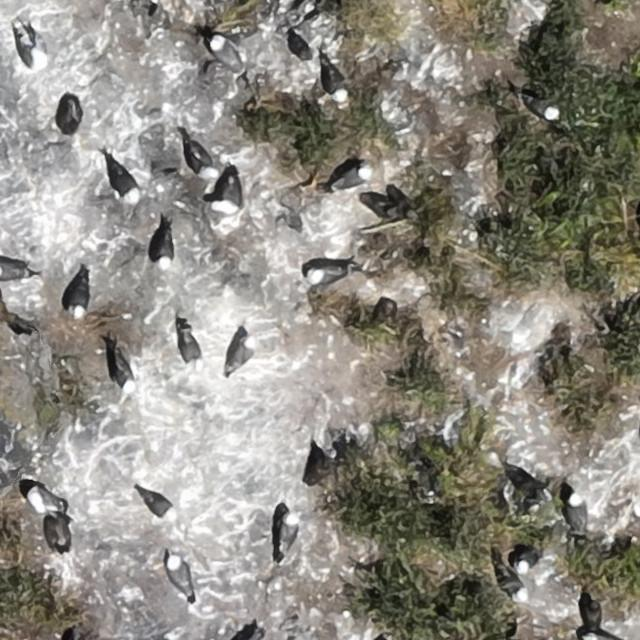umineko: (497, 556, 531, 602), (14, 23, 46, 70), (110, 350, 140, 393), (110, 162, 140, 200), (229, 334, 256, 372), (179, 329, 203, 371), (166, 558, 188, 596), (212, 38, 239, 68), (143, 492, 174, 518), (524, 95, 556, 119), (219, 177, 240, 212), (188, 144, 210, 177), (336, 166, 370, 187), (278, 510, 296, 549), (310, 265, 346, 284), (327, 68, 347, 102), (568, 494, 585, 531), (69, 284, 87, 318), (27, 490, 50, 516), (157, 235, 173, 267), (515, 551, 539, 572), (1, 262, 26, 280)
